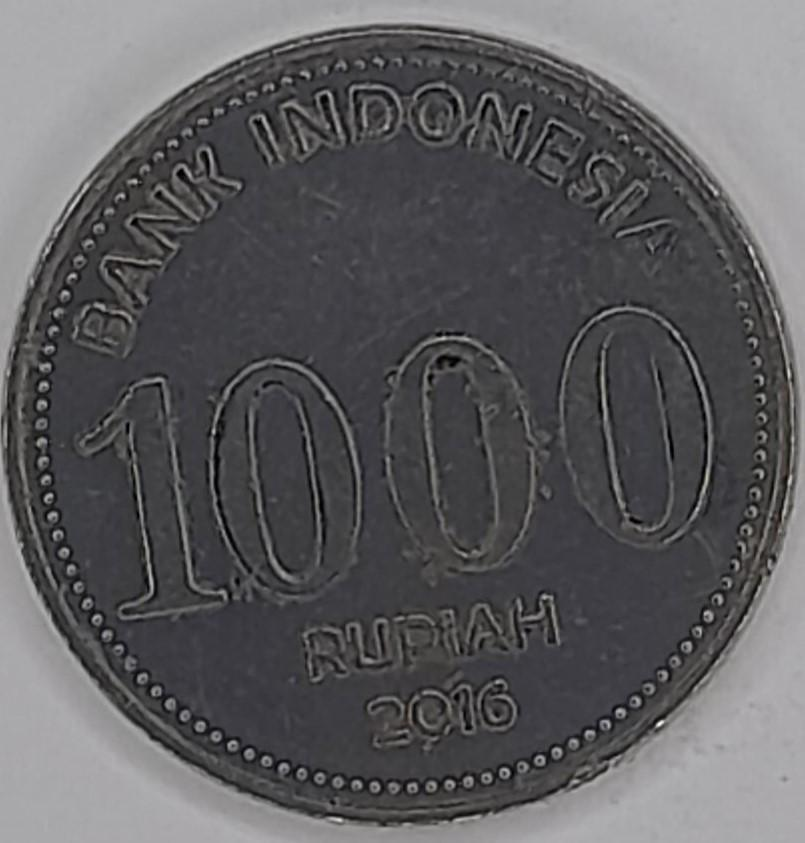coin_1000_e2016: (14, 17, 794, 843)
